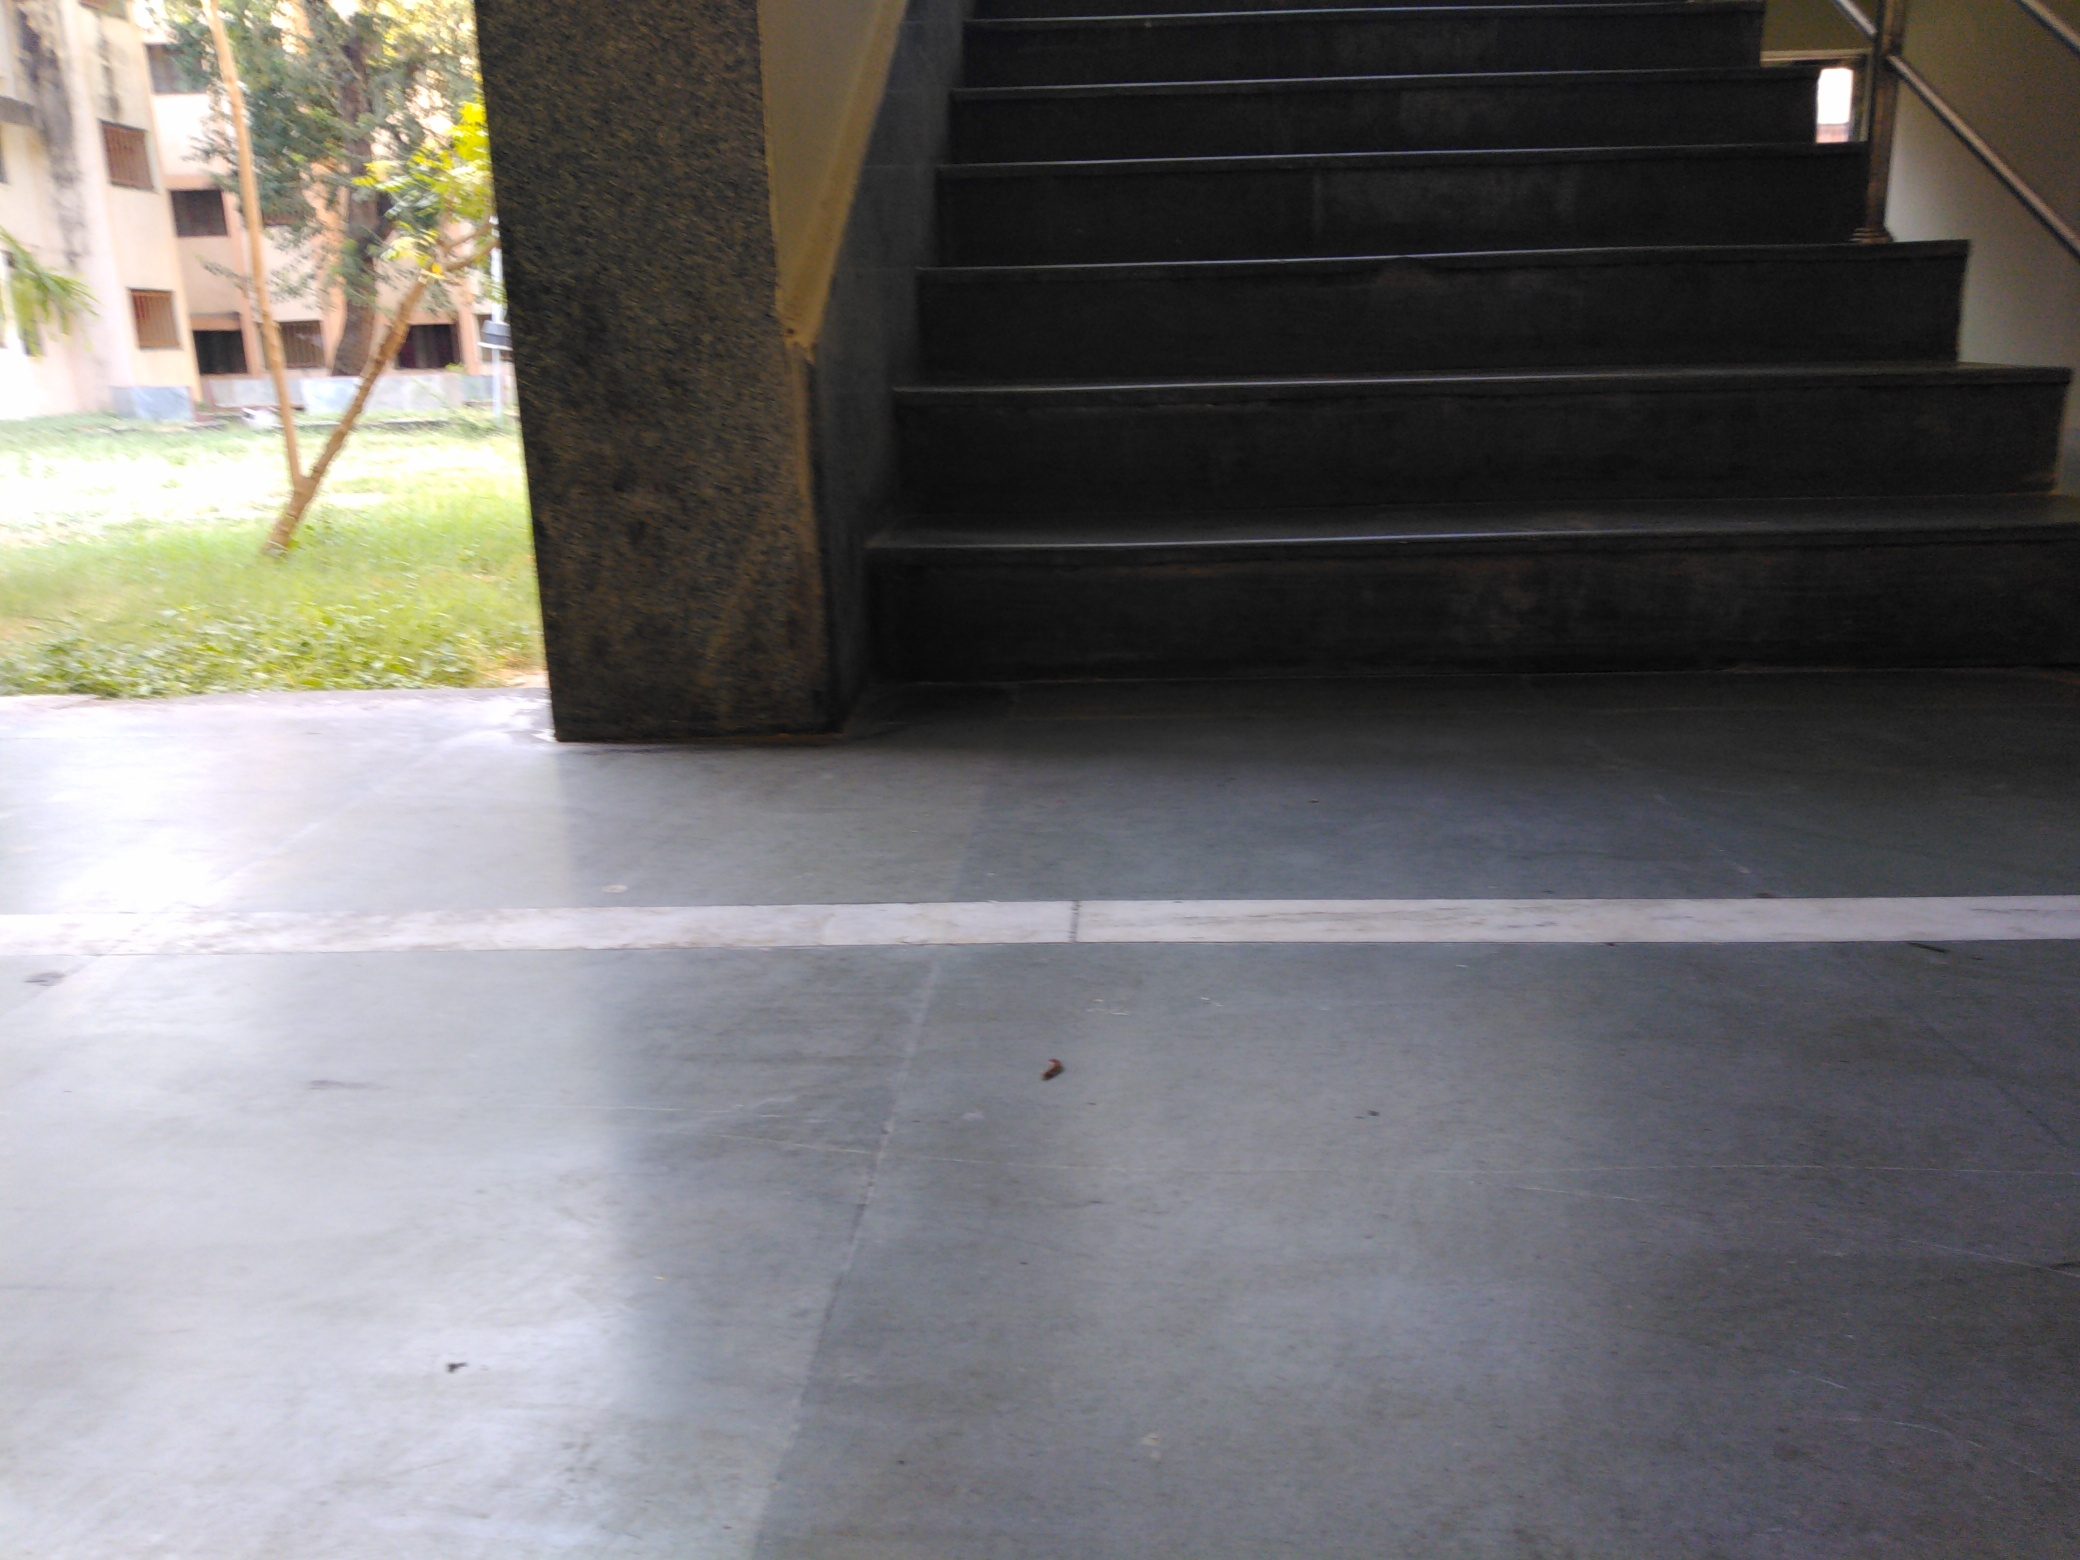stairs_up: (827, 39, 2044, 665)
